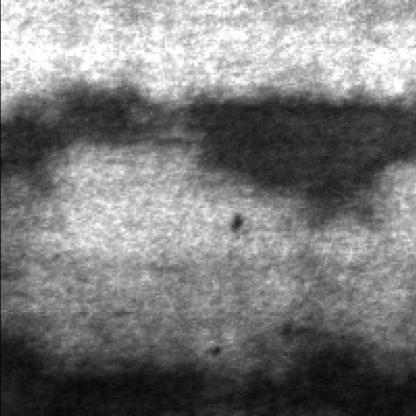patches: (0, 333, 412, 414), (181, 88, 412, 212), (0, 81, 156, 181)
